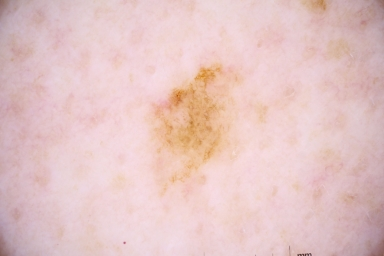nevus: (157, 64, 229, 191)
